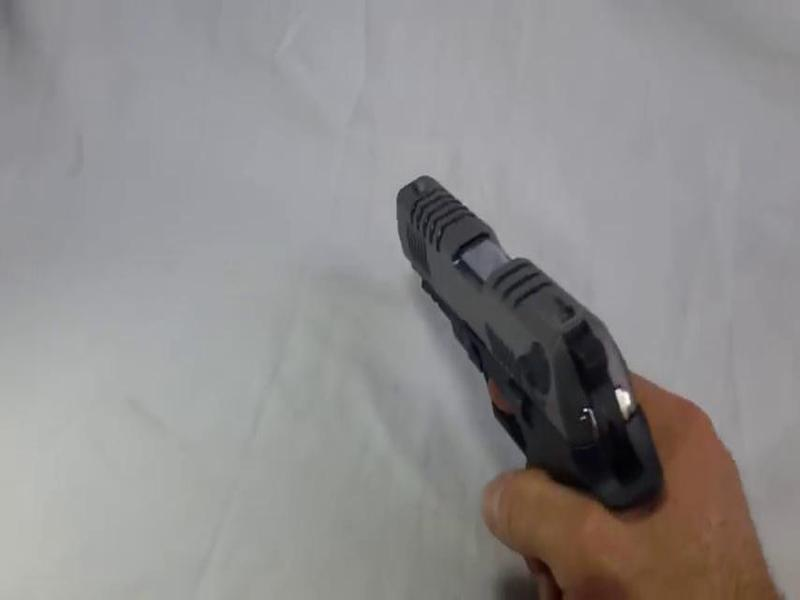Pistola: (322, 154, 718, 552)
